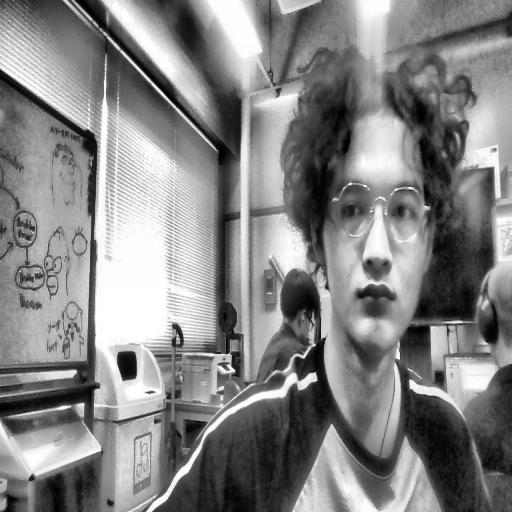Daifuku: (278, 34, 470, 358)
Not Daifuku: (475, 250, 512, 376), (278, 261, 320, 348)
